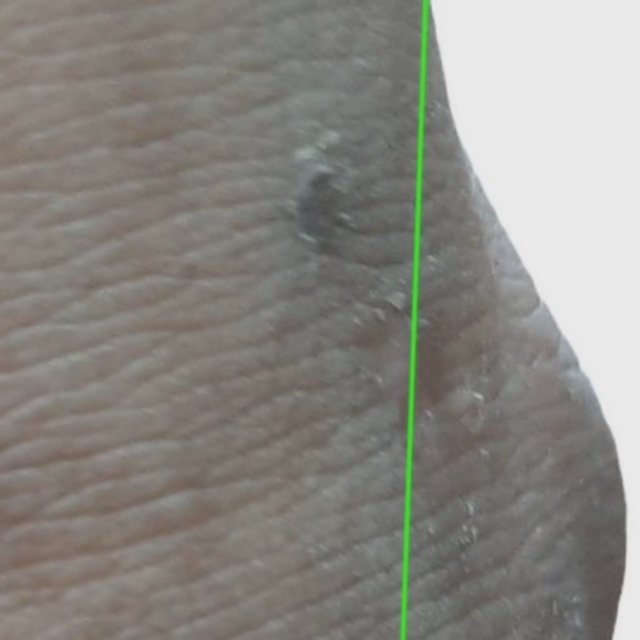Scabies: (401, 0, 639, 639)
